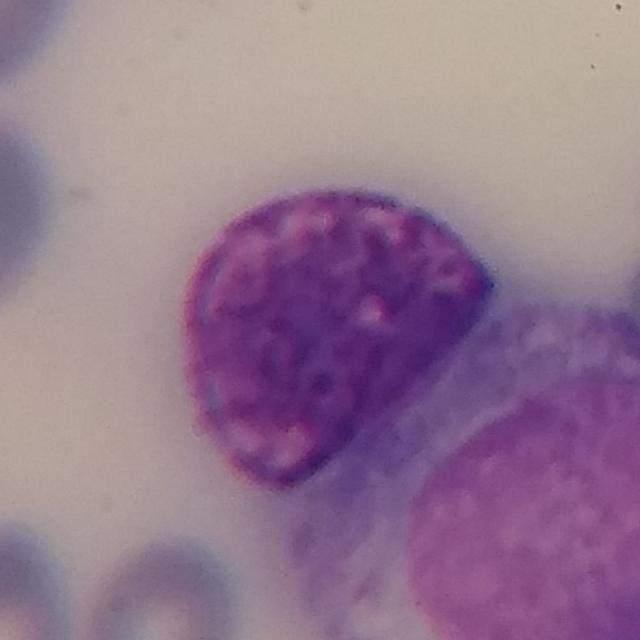Basophil: (155, 157, 513, 526)
Monocyte: (272, 296, 640, 636)
RBC: (73, 528, 247, 640), (0, 97, 66, 326), (0, 515, 83, 639), (0, 0, 81, 94)
